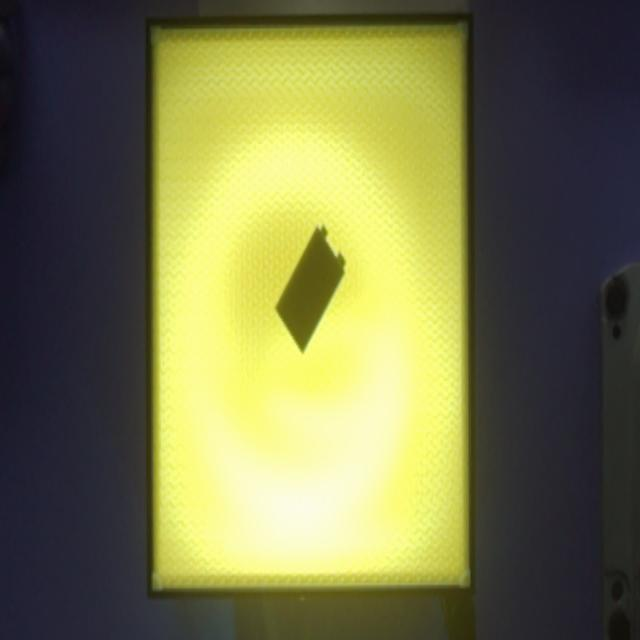bateria: (275, 224, 347, 354)
mesa: (146, 13, 474, 600)
